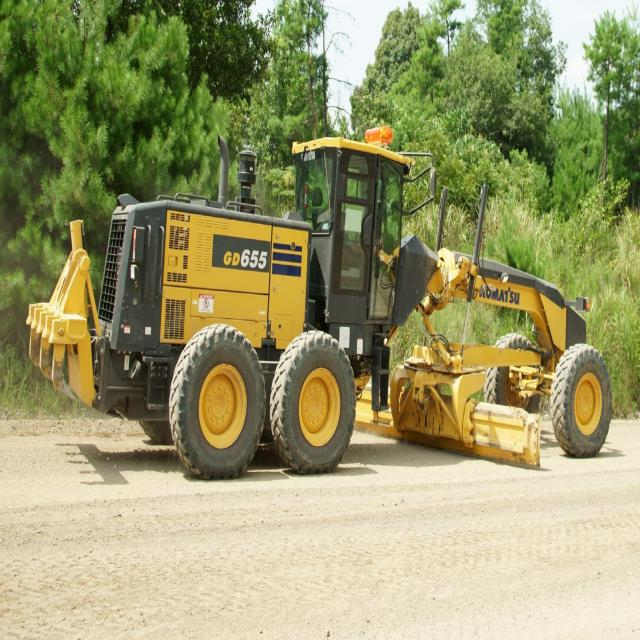Grader: (33, 106, 610, 491)
